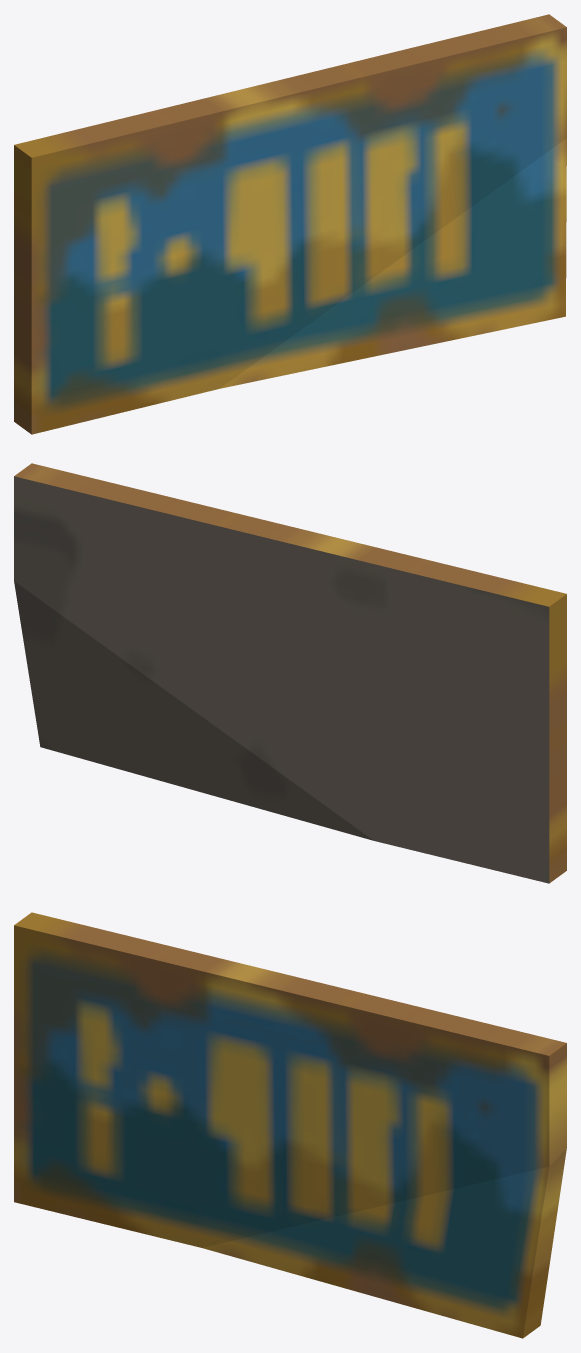
The model's file is SM_Prop_Sign_Numberplate_06.obj.
The picture shows the model from 3 angles, top to bottom: view 1: azimuth 30°, elevation 25°; view 2: azimuth 150°, elevation 25°; view 3: azimuth 330°, elevation 25°; orthographic projection.
Parts seen in each view (by area): view 1: SM_Prop_Sign_Numberplate_06_0; view 2: SM_Prop_Sign_Numberplate_06_0; view 3: SM_Prop_Sign_Numberplate_06_0.
Part boxes in pixels (bbox=[...]): SM_Prop_Sign_Numberplate_06_0: bbox=[14, 14, 566, 434]; SM_Prop_Sign_Numberplate_06_0: bbox=[14, 463, 566, 883]; SM_Prop_Sign_Numberplate_06_0: bbox=[14, 912, 566, 1338].
Size of the model in its own units: 0.6477 by 0.3201 by 0.0637.
Materials: 1 (1 with a texture image).
